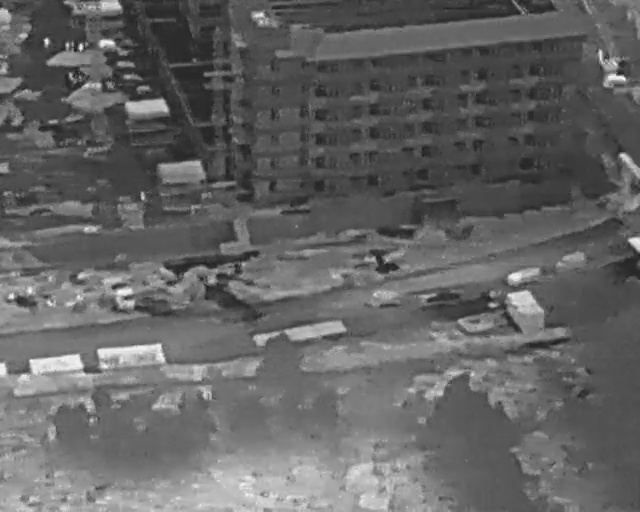Person: (42, 35, 50, 48), (65, 40, 71, 51), (78, 42, 83, 53)
